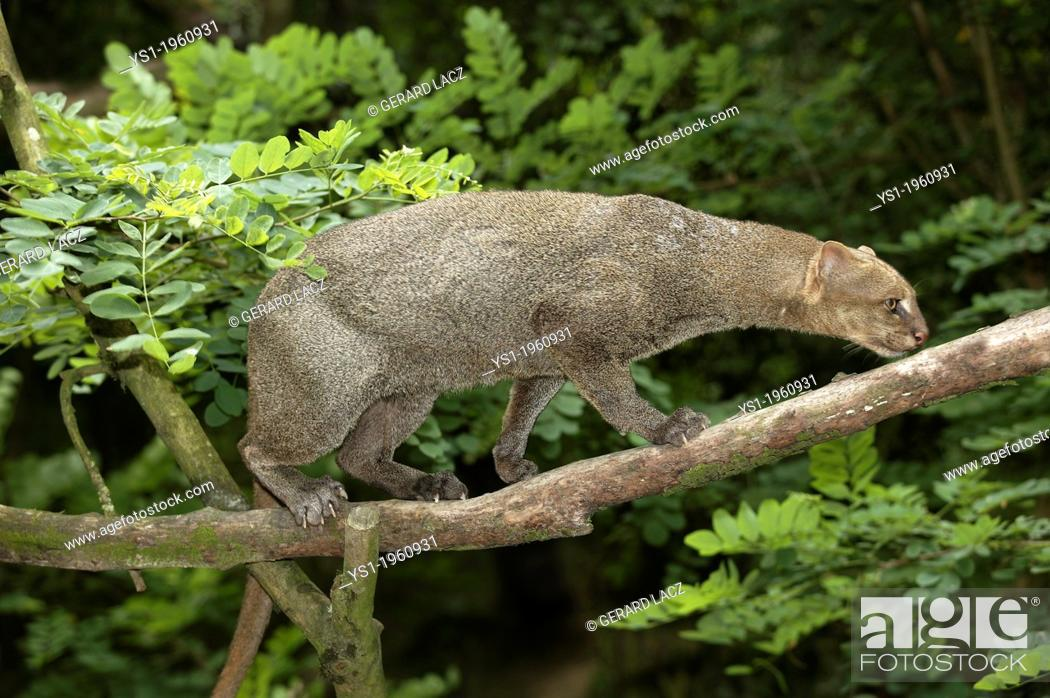Jaguarundi: (226, 181, 940, 536)
